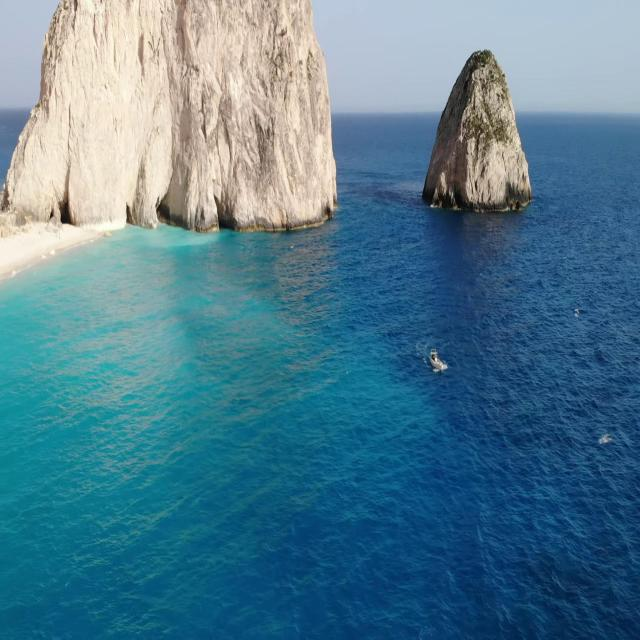boat: (428, 348, 444, 376)
